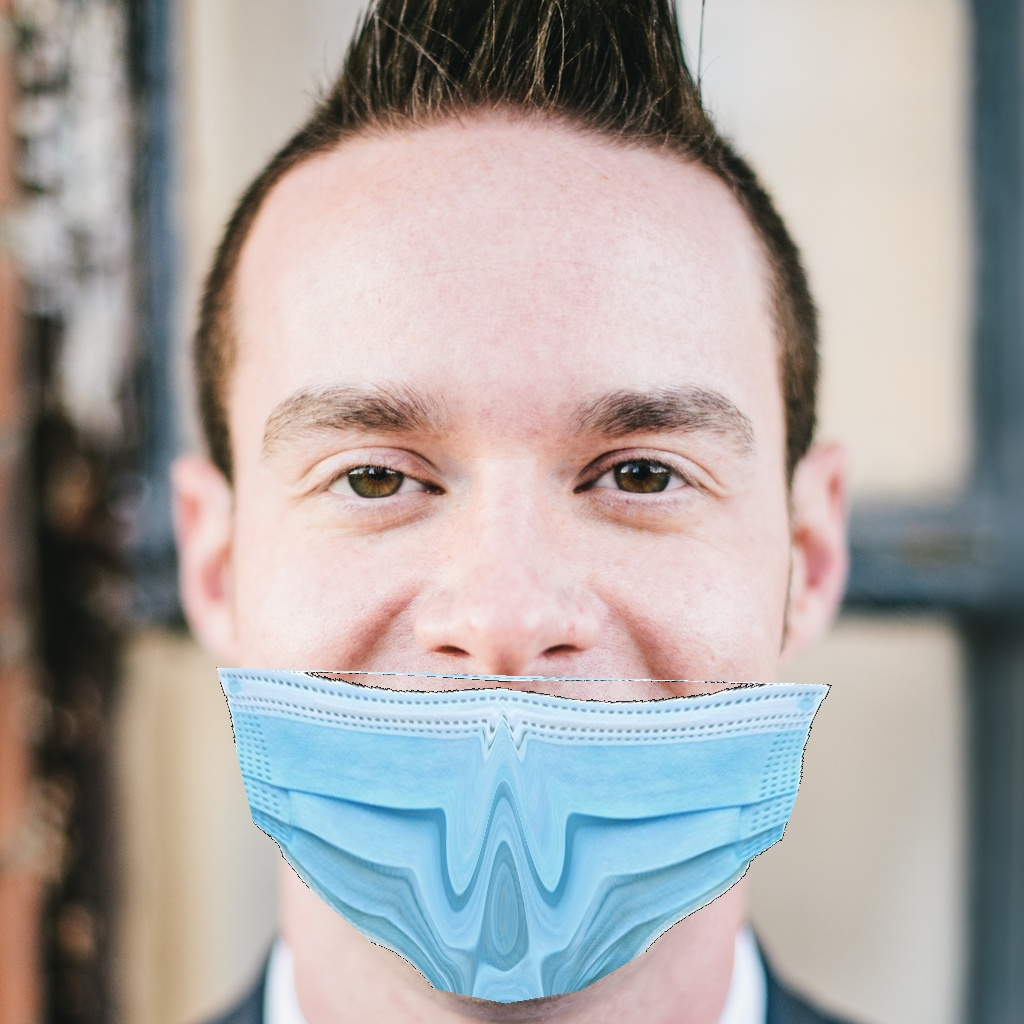mascarilla_mal_puesta: (212, 385, 804, 1024)
